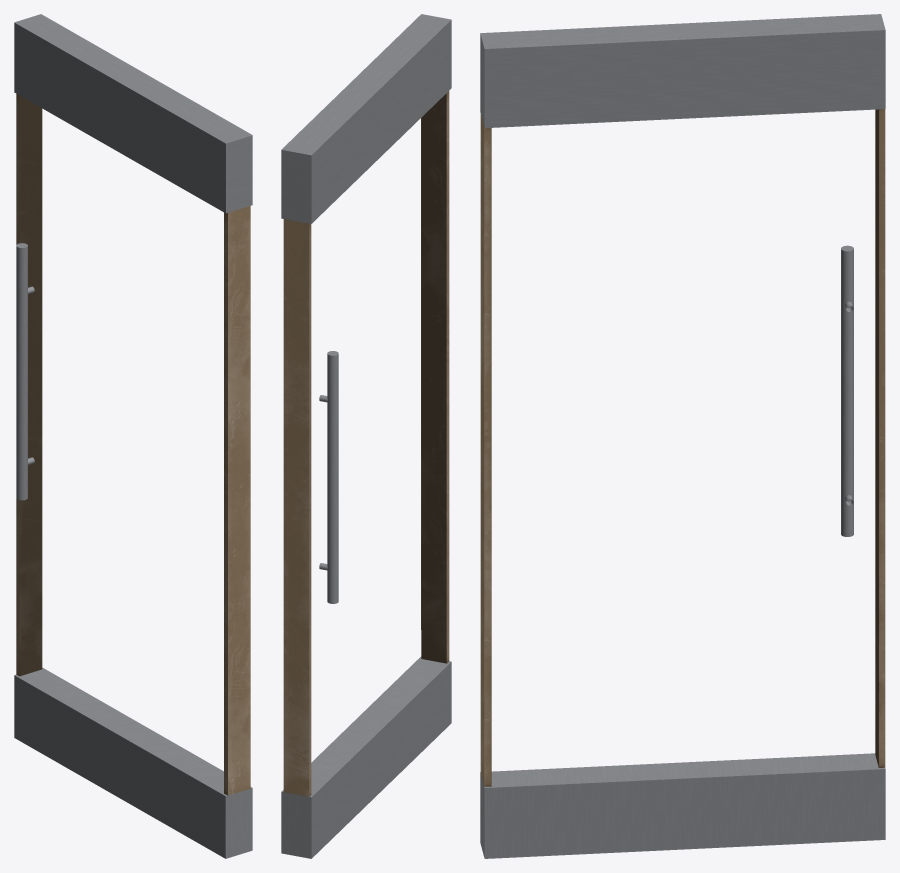
File: SM_105_Door_11_2.fbx
3 views of the same model, side by side, from view 1: azimuth 30°, elevation 25°; view 2: azimuth 150°, elevation 25°; view 3: azimuth 270°, elevation 25° (orthographic). The views are drawn at different scales.
Parts seen in each view (by area): view 1: SM_105_Door_11_2; view 2: SM_105_Door_11_2; view 3: SM_105_Door_11_2.
Part boxes in pixels (bbox=[...]): SM_105_Door_11_2: bbox=[14, 14, 252, 858]; SM_105_Door_11_2: bbox=[281, 14, 451, 858]; SM_105_Door_11_2: bbox=[480, 14, 885, 858].
Bounding box in the file's own units: 26.8 × 110 × 243.
1 material, 1 textured.
